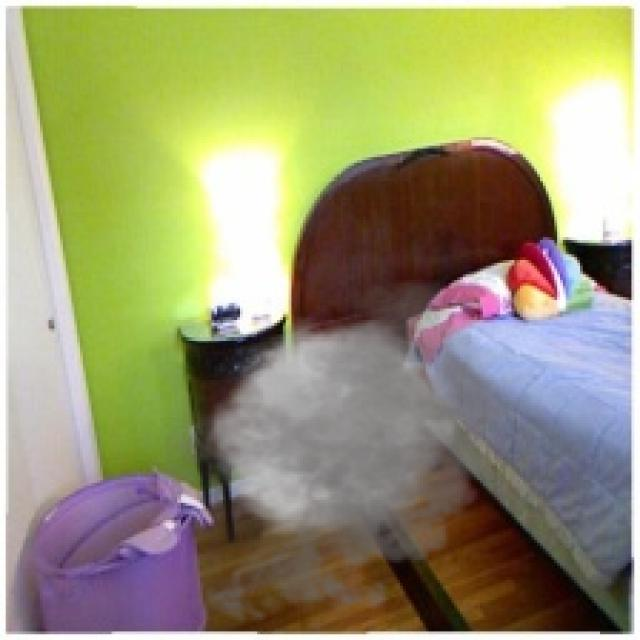smoke: (140, 266, 529, 634)
